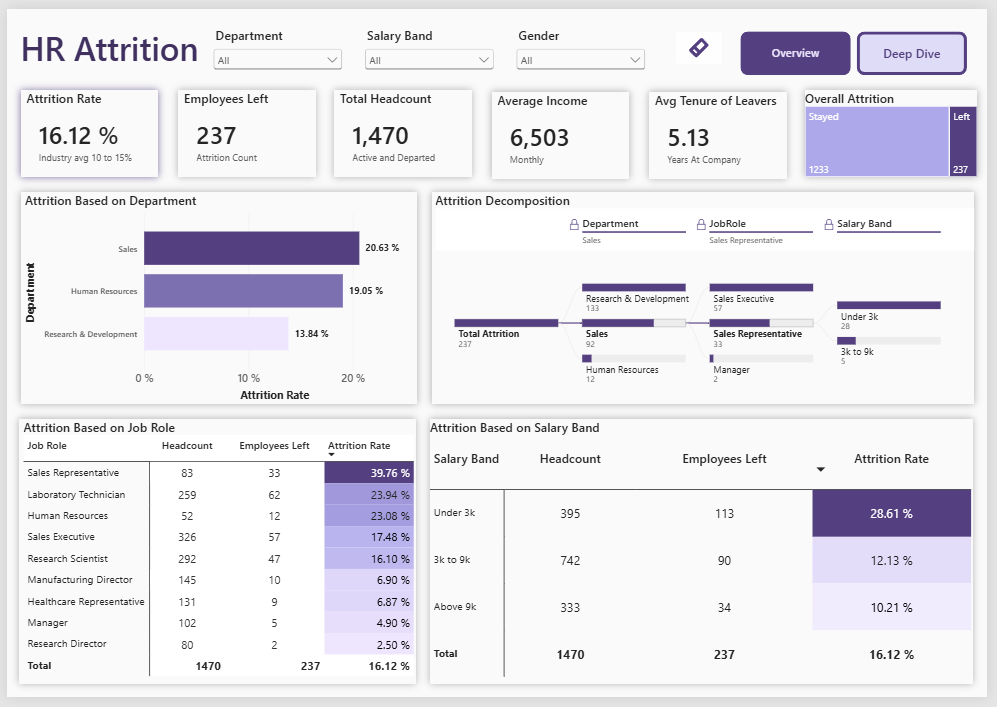

The page's visual inventory and layout, read from the dashboard file:
{"tool":"powerbi","page":{"name":"Overview","canvas":[1280,900],"ordinal":0},"visuals":[{"type":"textbox","box":[17.5,22.5,280,77.5],"z":0},{"type":"slicer","fields":{"Values":["HR_employees.Department"]},"box":[265,23.7,178,73],"z":1000},{"type":"slicer","fields":{"Values":["HR_employees.Salary Band"]},"box":[462.3,22.7,178.3,73.3],"z":2000},{"type":"slicer","fields":{"Values":["HR_employees.Gender"]},"box":[660,24.3,178,73],"z":3000},{"type":"actionButton","box":[875,30,60,42.5],"z":4000},{"type":"pageNavigator","box":[958.3,30,297.5,57.5],"z":5000},{"type":"cardVisual","title":"Employees Left","fields":{"Data":["HR_employees.Employees Left"]},"box":[223.3,106.7,180,113.3],"z":6000},{"type":"cardVisual","title":"Attrition Rate","fields":{"Data":["HR_employees.Attrition %"]},"box":[18.3,106.7,180,114],"z":7000},{"type":"cardVisual","title":"Total Headcount","fields":{"Data":["HR_employees.Total Employees"]},"box":[428.3,105.7,180,114],"z":8000},{"type":"cardVisual","title":"Average Income","fields":{"Data":["Avg(HR_employees.MonthlyIncome)"]},"box":[633.3,107.1,180,114],"z":9000},{"type":"cardVisual","title":"Avg Tenure of Leavers","fields":{"Data":["HR_employees.Avg Tenure of Leavers"]},"box":[838.3,107.1,180,114],"z":10000},{"type":"treemap","title":"Overall Attrition","fields":{"Values":["HR_employees.Employees Left","HR_employees.Employees Stayed"]},"box":[1043.3,106.7,225,113.3],"z":11000},{"type":"barChart","title":"Attrition Based on Department","fields":{"Category":["HR_employees.Department"],"Y":["HR_employees.Attrition %"]},"box":[17.1,240,518.6,277],"z":12000},{"type":"decompositionTreeVisual","title":"Attrition Decomposition","fields":{"Analyze":["HR_employees.Employees Left"],"ExplainBy":["HR_employees.Department","HR_employees.JobRole","HR_employees.Salary Band"]},"box":[555.7,240,709,277],"z":13000},{"type":"pivotTable","title":"Attrition Based on Job Role","fields":{"Rows":["HR_employees.JobRole"],"Values":["HR_employees.Total Employees","HR_employees.Employees Left","HR_employees.Attrition %"]},"box":[16.2,535,518.3,346.7],"z":14000},{"type":"pivotTable","title":"Attrition Based on Salary Band","fields":{"Rows":["HR_employees.Salary Band"],"Values":["HR_employees.Total Employees","HR_employees.Employees Left","HR_employees.Attrition %"]},"box":[553.8,536.2,709,346.7],"z":15000}]}

Visuals, with their boxes in screenshot pixels (x1, y1, x2, y2), scaled from the page's 1280x900 canvas onto the 997x707 screenshot:
textbox: x1=14 y1=18 x2=232 y2=79
slicer - HR_employees.Department: x1=206 y1=19 x2=345 y2=76
slicer - HR_employees.Salary Band: x1=360 y1=18 x2=499 y2=75
slicer - HR_employees.Gender: x1=514 y1=19 x2=653 y2=76
actionButton: x1=682 y1=24 x2=728 y2=57
pageNavigator: x1=746 y1=24 x2=978 y2=69
"Employees Left" cardVisual: x1=174 y1=84 x2=314 y2=173
"Attrition Rate" cardVisual: x1=14 y1=84 x2=154 y2=173
"Total Headcount" cardVisual: x1=334 y1=83 x2=474 y2=173
"Average Income" cardVisual: x1=493 y1=84 x2=633 y2=174
"Avg Tenure of Leavers" cardVisual: x1=653 y1=84 x2=793 y2=174
"Overall Attrition" treemap: x1=813 y1=84 x2=988 y2=173
"Attrition Based on Department" barChart: x1=13 y1=189 x2=417 y2=406
"Attrition Decomposition" decompositionTreeVisual: x1=433 y1=189 x2=985 y2=406
"Attrition Based on Job Role" pivotTable: x1=13 y1=420 x2=416 y2=693
"Attrition Based on Salary Band" pivotTable: x1=431 y1=421 x2=984 y2=694
